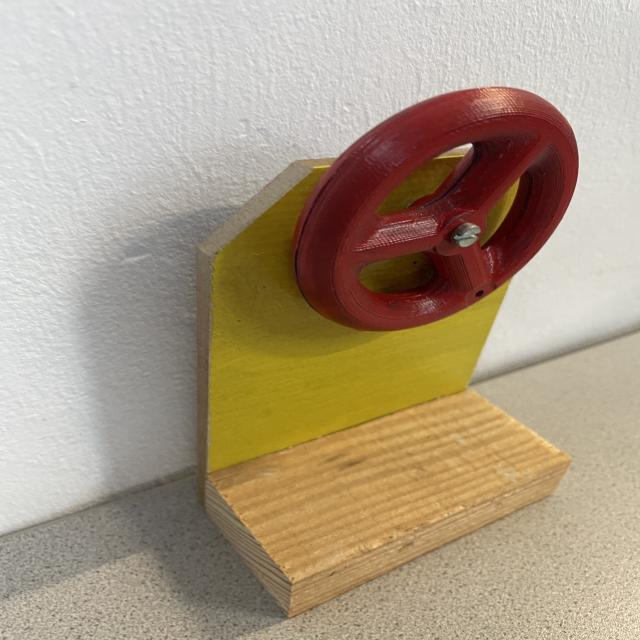Wheel Handle Valve Threaded: (291, 84, 581, 333)
